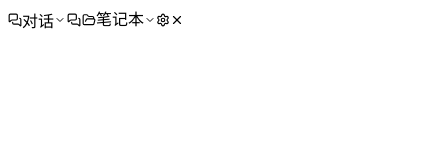
Test: floating bar screenshot answer › shows a rejected screenshot answer on screen instead of only logging it
Click the button "对话" at (37, 20), box [8, 8, 66, 32]
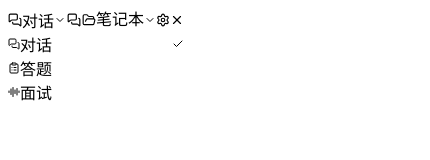
Click the menu item "答题" at (96, 68), box [8, 56, 184, 80]
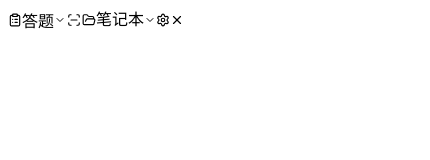
Click the button named "截图提问" at (74, 20), box [67, 13, 81, 27]
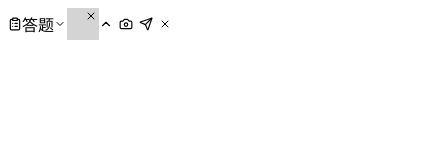
Click the button named "确认发送" at (146, 24), box [139, 17, 153, 31]
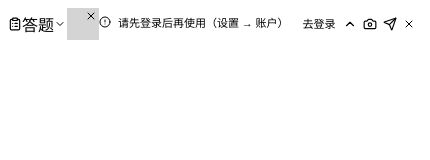
Result: the message shows "请先登录后再使用（设置 → 账户）" at [118, 17, 288, 29]
Result: the button "去登录" is shown at [296, 15, 342, 33]
